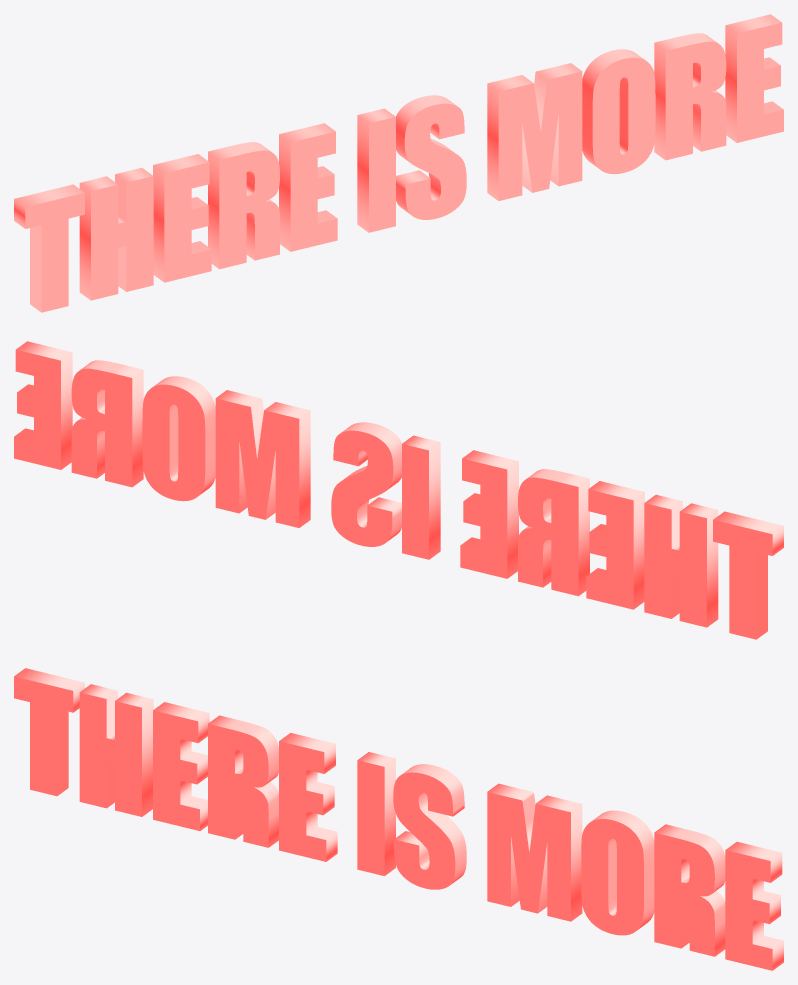
The model's file is sign2.glb.
The picture shows the model from 3 angles, top to bottom: view 1: azimuth 30°, elevation 25°; view 2: azimuth 150°, elevation 25°; view 3: azimuth 330°, elevation 25°; orthographic projection.
Parts seen in each view (by area): view 1: Text.001; view 2: Text.001; view 3: Text.001.
Part boxes in pixels (x1,y1,x2,y2): Text.001: (14, 14, 783, 312); Text.001: (14, 341, 783, 639); Text.001: (14, 668, 783, 970).
Bounding box in the file's own units: 2.77 × 0.3974 × 0.0723.
